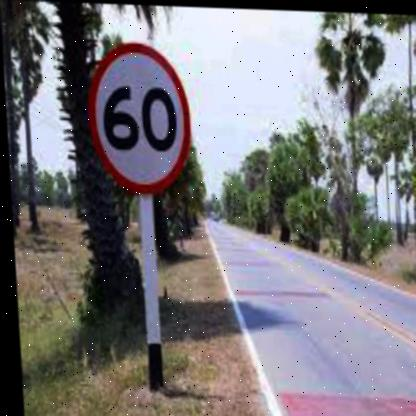Speed Limit -60-: (83, 37, 193, 194)
